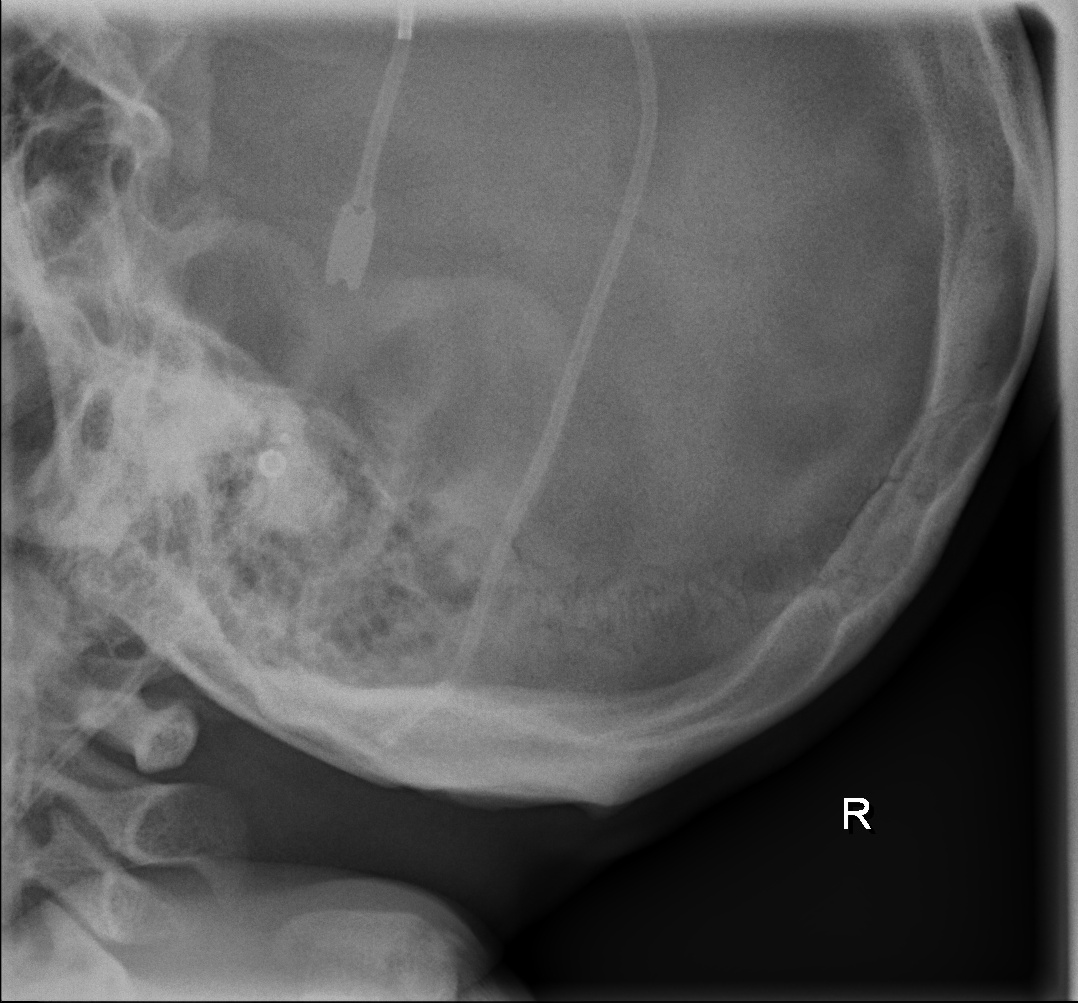Codman Hakim: (246, 420, 302, 501)
